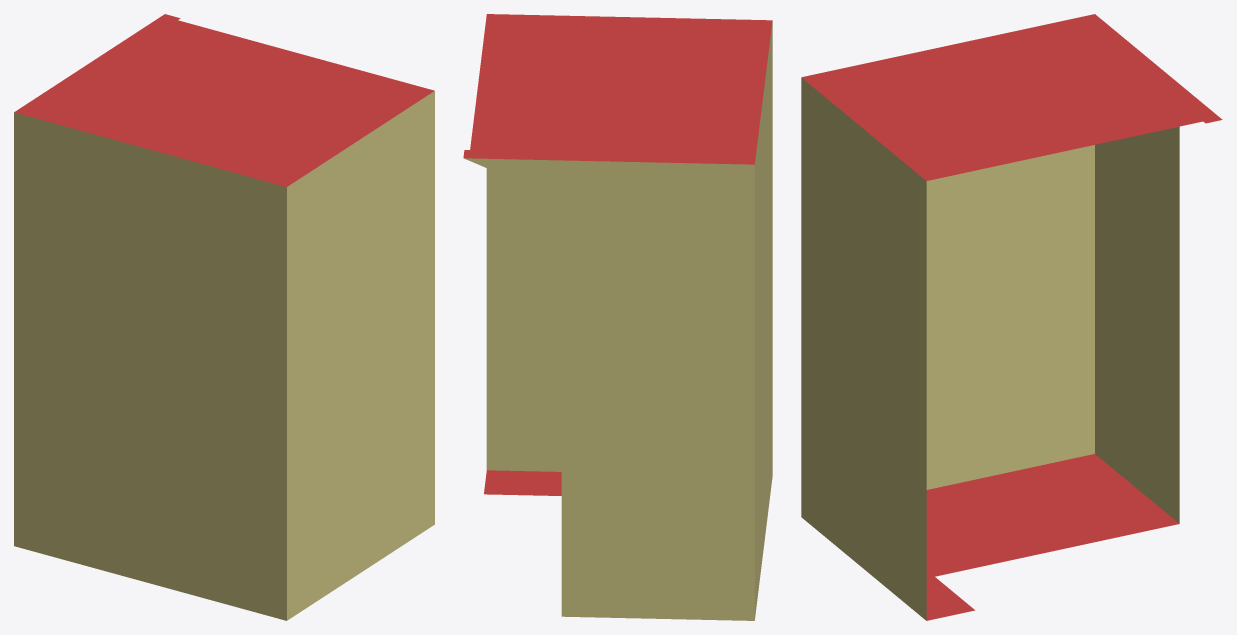
The picture shows the model from 3 angles, left to right: view 1: azimuth 30°, elevation 25°; view 2: azimuth 150°, elevation 25°; view 3: azimuth 270°, elevation 25°; orthographic projection. The views are drawn at different scales.
Bounding box in the file's own units: 5.35 × 5.7 × 6.56.
